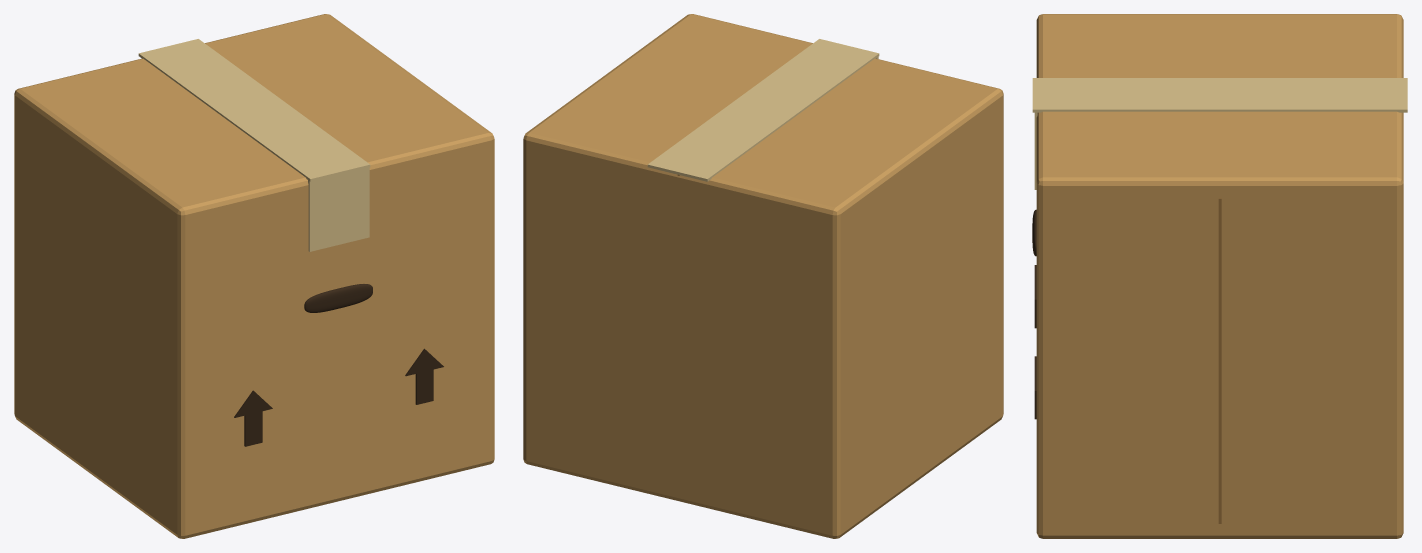
The model's file is caja.glb.
3 renders of one model, left to right at view 1: azimuth 30°, elevation 25°; view 2: azimuth 150°, elevation 25°; view 3: azimuth 270°, elevation 25°, orthographic. The views are drawn at different scales.
Parts seen in each view (by area): view 1: caja, cinta, cinta_delante, asa, flecha1, flecha0; view 2: caja, cinta; view 3: caja, cinta, pliegue.
Part boxes in pixels (x1=…): caja: x1=14, y1=14, x2=494, y2=538; cinta: x1=138, y1=39, x2=370, y2=181; cinta_delante: x1=308, y1=167, x2=369, y2=251; asa: x1=304, y1=284, x2=372, y2=312; flecha1: x1=405, y1=348, x2=443, y2=404; flecha0: x1=234, y1=390, x2=272, y2=446; caja: x1=523, y1=14, x2=1003, y2=538; cinta: x1=647, y1=39, x2=879, y2=181; caja: x1=1036, y1=14, x2=1403, y2=538; cinta: x1=1032, y1=78, x2=1407, y2=112; pliegue: x1=1218, y1=198, x2=1221, y2=523.
Bounding box in the file's own units: 0.743 × 0.744 × 0.6962.
